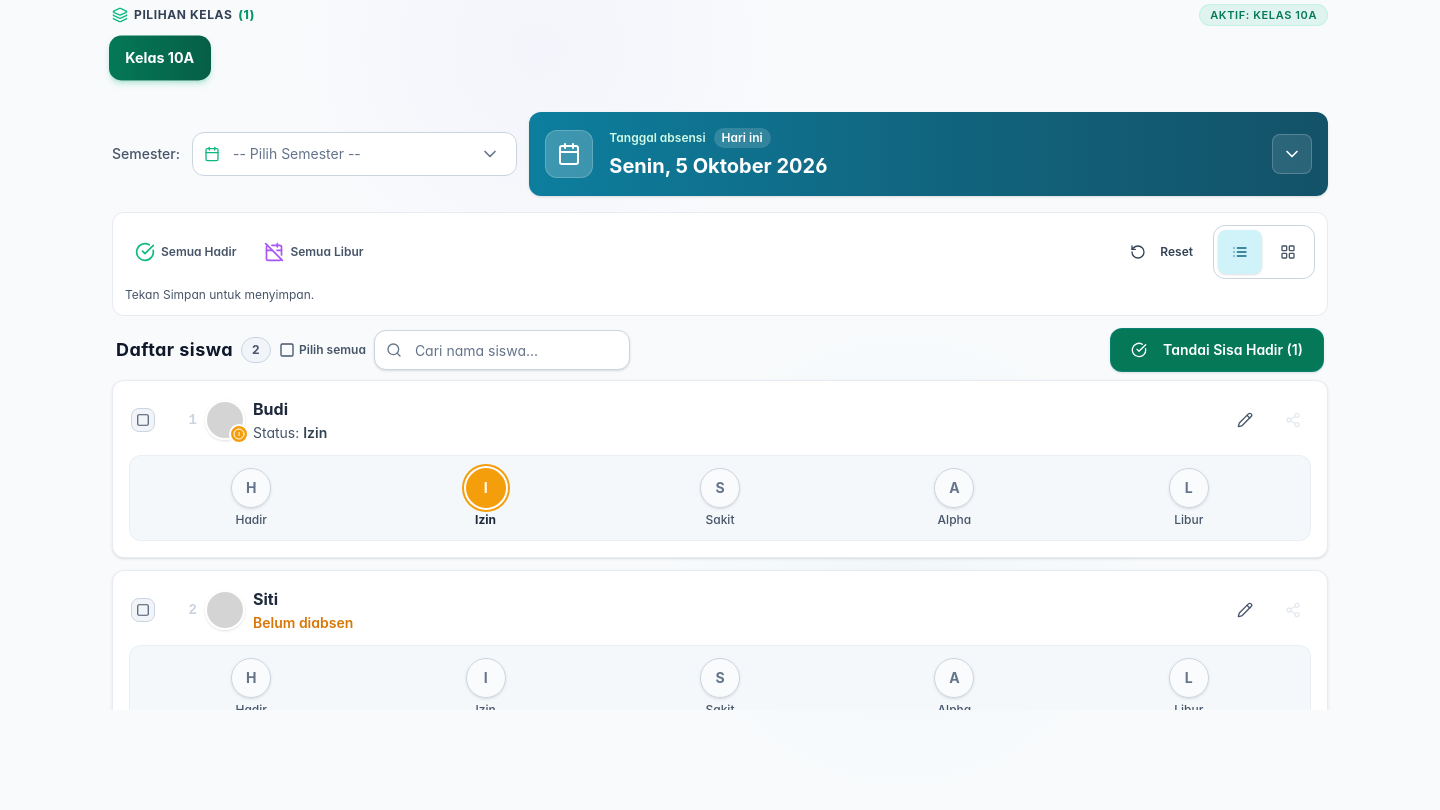
Test: AttendancePage Integration › marks every unmarked student as present without losing the local selection
Check: the heading "Budi" is shown, box [253,399,288,419]
Check: the heading "Siti" is shown, box [253,589,278,609]
# Budi is already marked, so only Siti remains.
What coordinates should you click on to do the following:
click the button "Tandai Sisa Hadir (1)"
I would click on:
 (1217, 350)
Its box is [1110,328,1324,372].
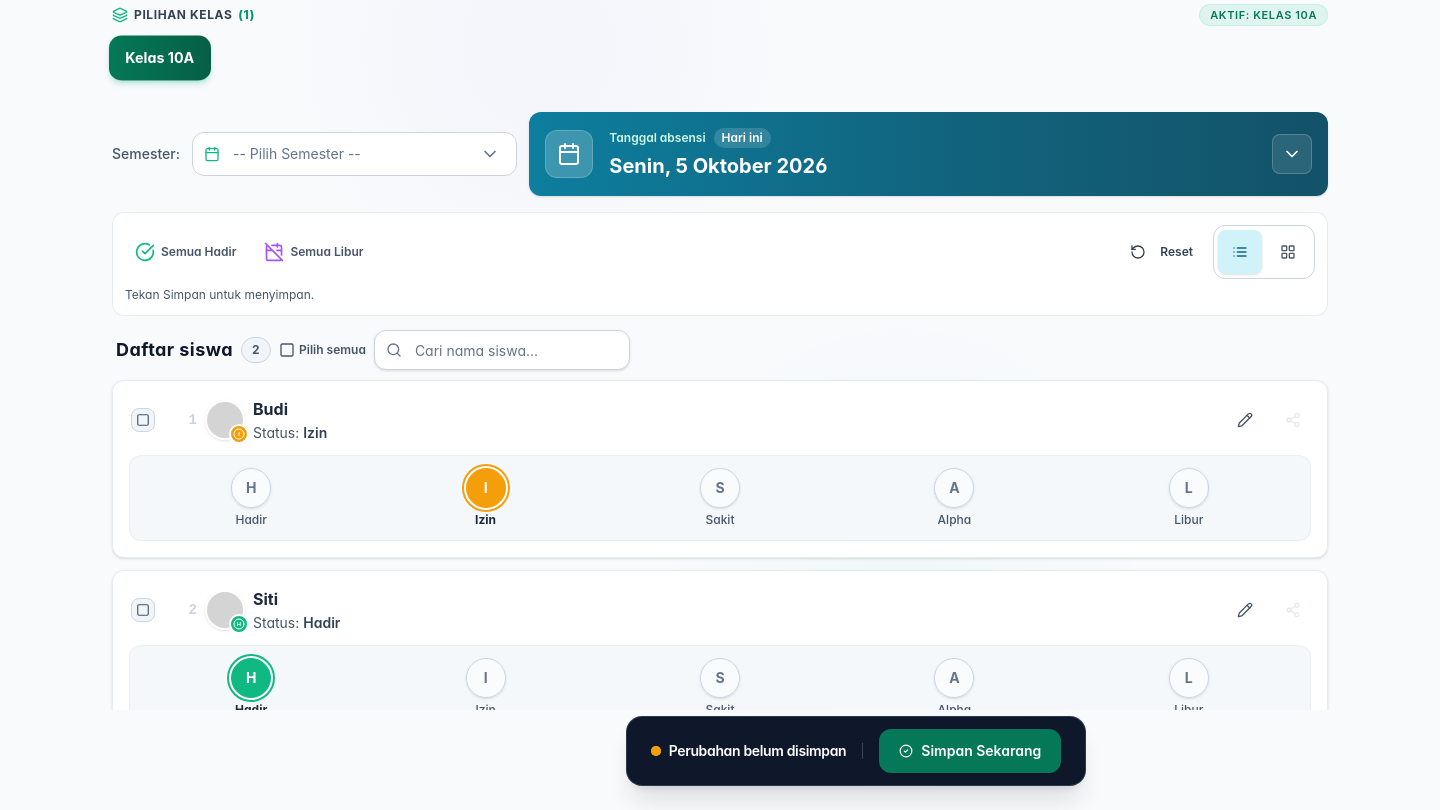
Check: the button "Tandai Sisa Hadir" is gone
